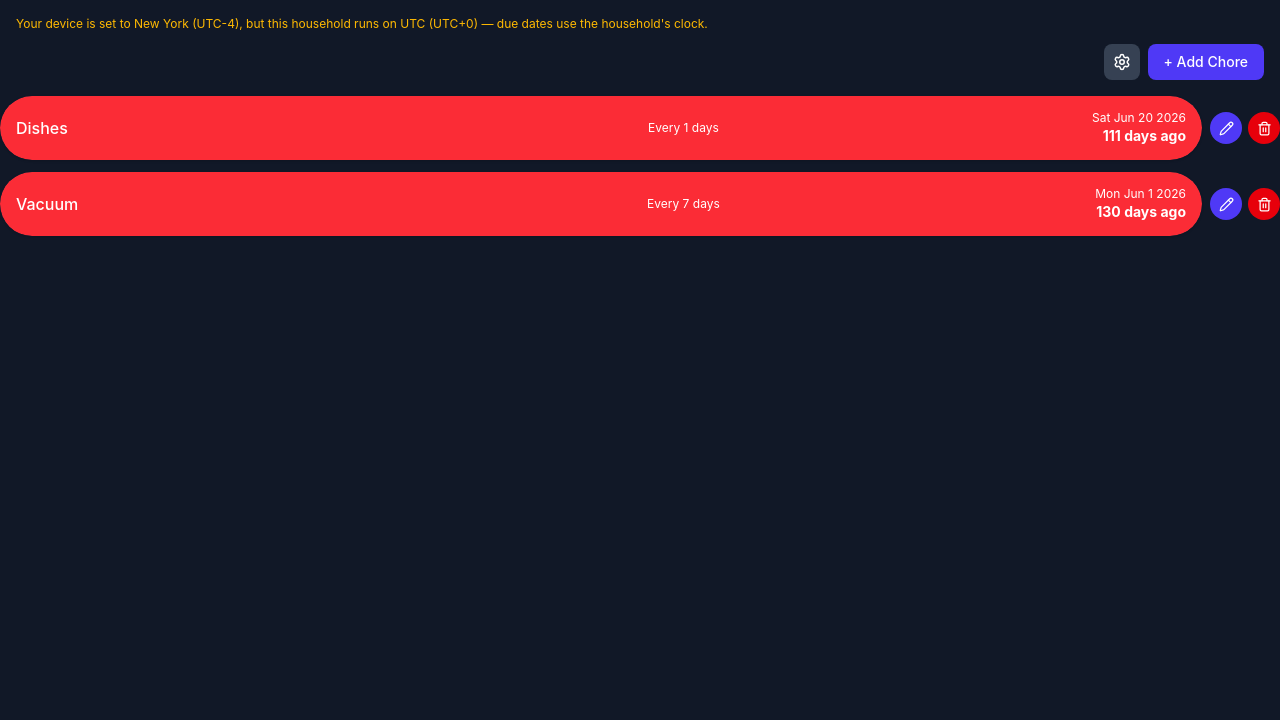
Test: ChoresView › creates a new chore via the add-chore form and renders it
expect the text "Vacuum" is shown: met, box [16, 194, 78, 214]
Click the button "+ Add Chore": x=1206, y=62 [1148, 44, 1264, 80]
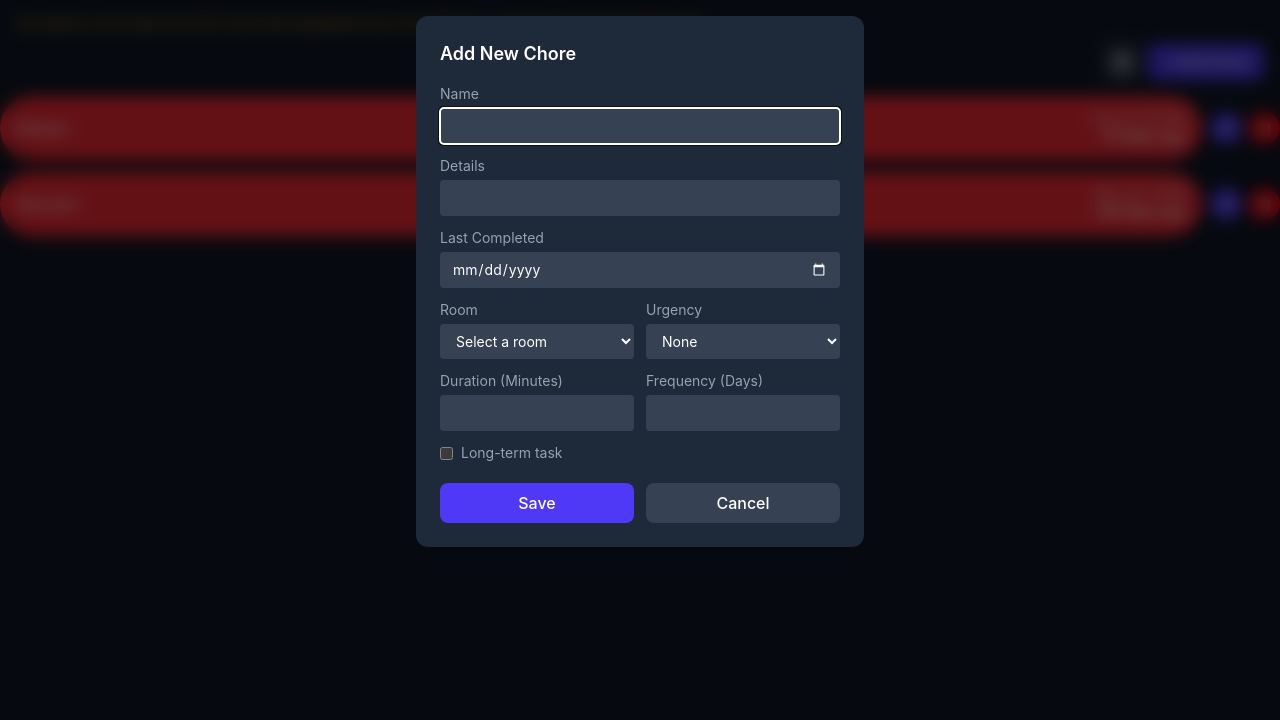
In the field labelled "Name": x=640, y=126 [440, 108, 840, 144], type "Mop Floors"
Select "Kitchen" in the dropdown labelled "Room": x=537, y=342 [440, 324, 634, 359]
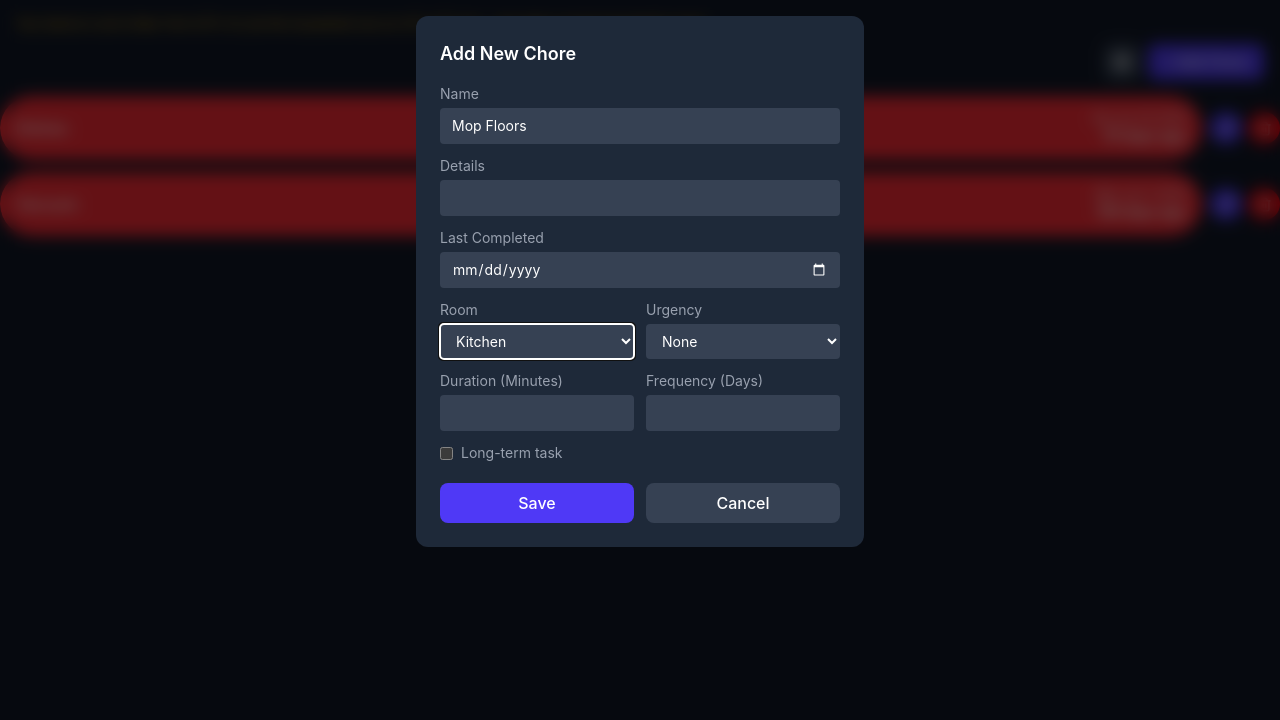
In the date field labelled "Last Completed": x=640, y=270 [440, 252, 840, 288], type "2026-06-15"
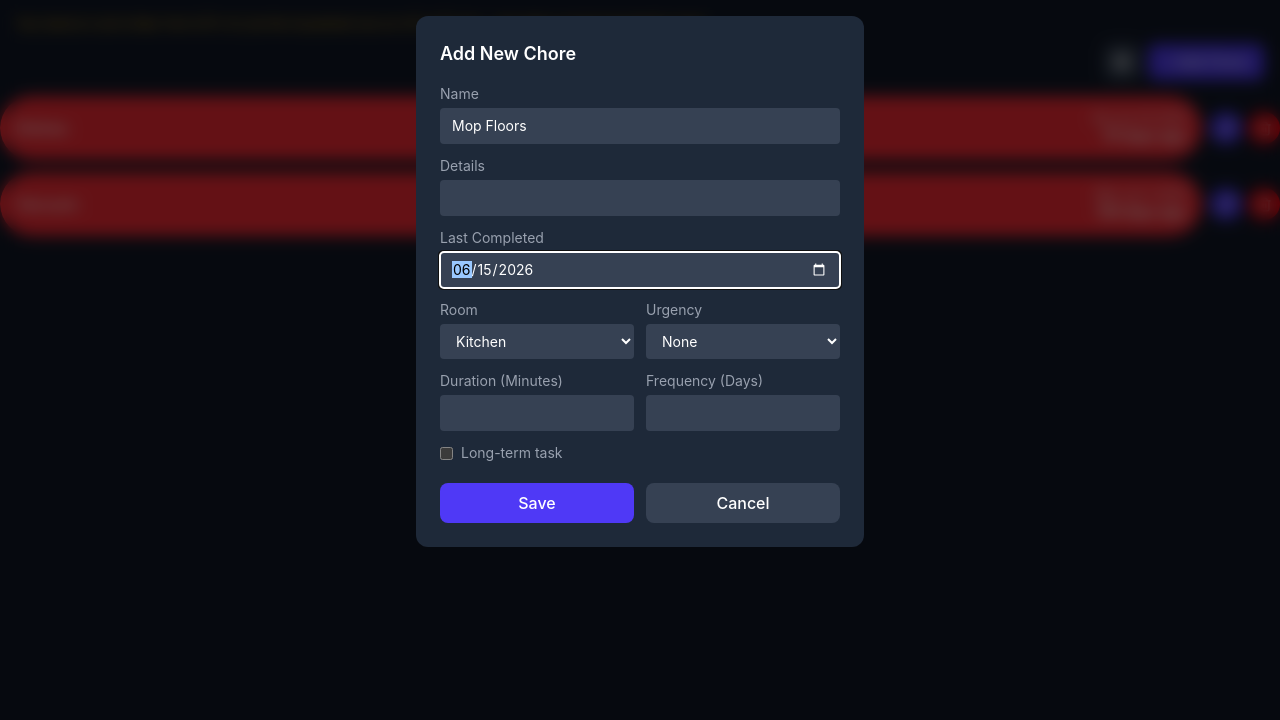
In the number field labelled "Duration (minutes)": x=537, y=413 [440, 395, 634, 431], type "15"
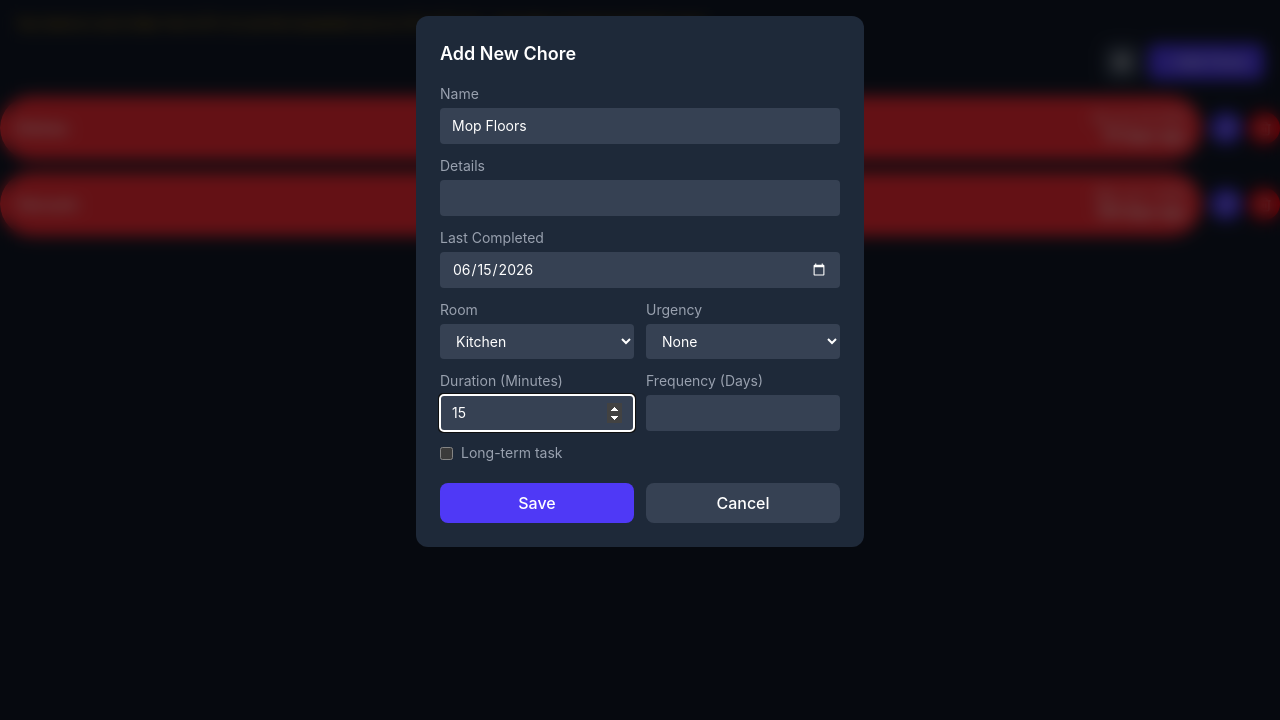
In the number field labelled "Frequency (days)": x=743, y=413 [646, 395, 840, 431], type "3"
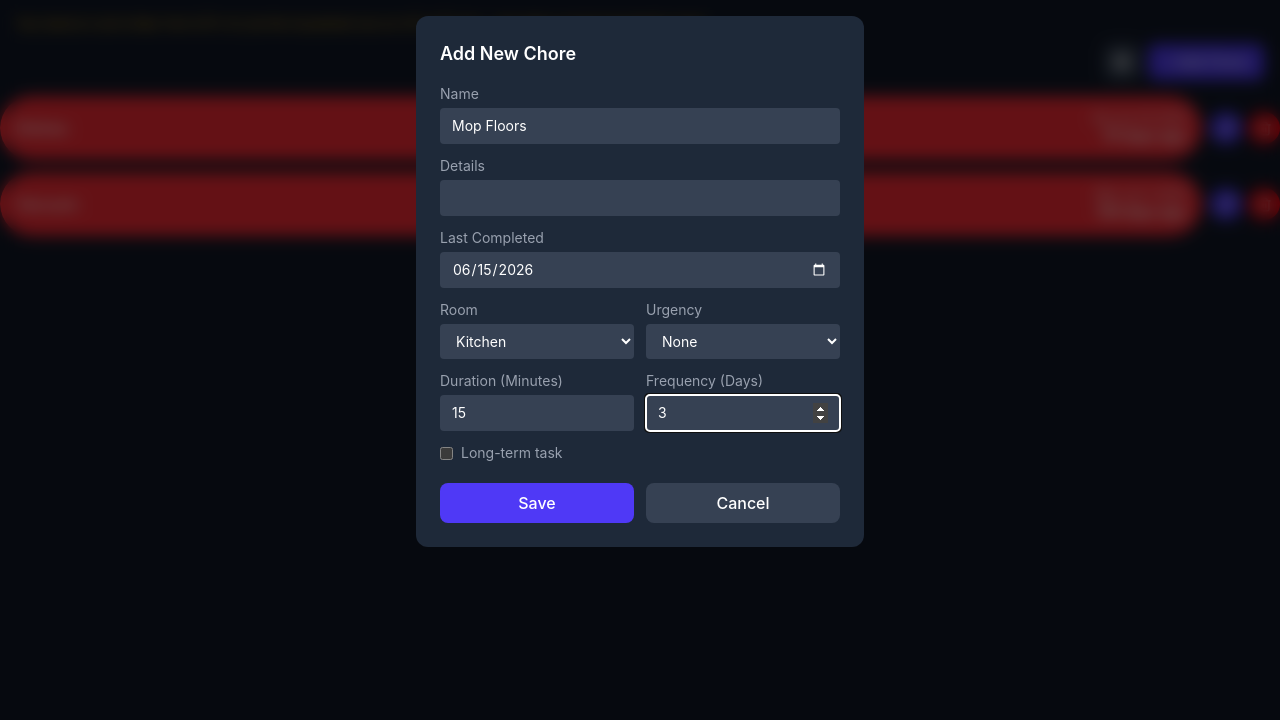
Click the button "Save": x=537, y=503 [440, 483, 634, 523]
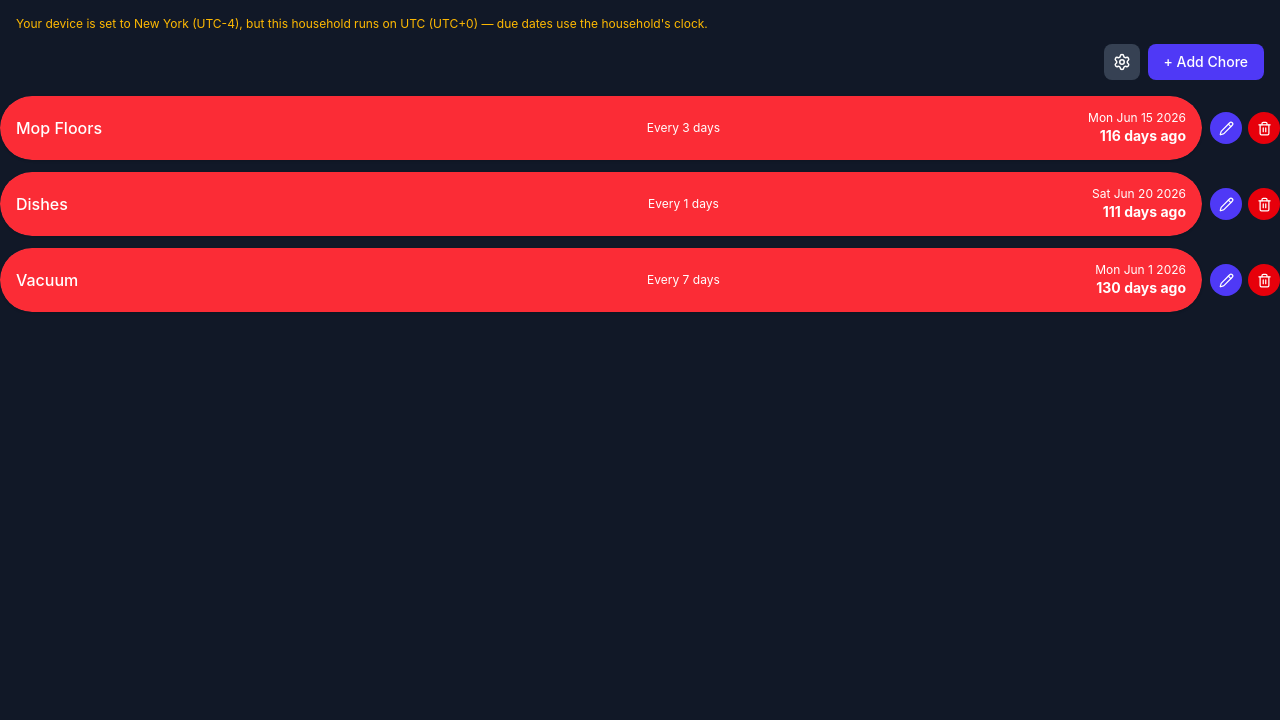
expect the text "Mop Floors" is shown: met, box [16, 118, 102, 138]
